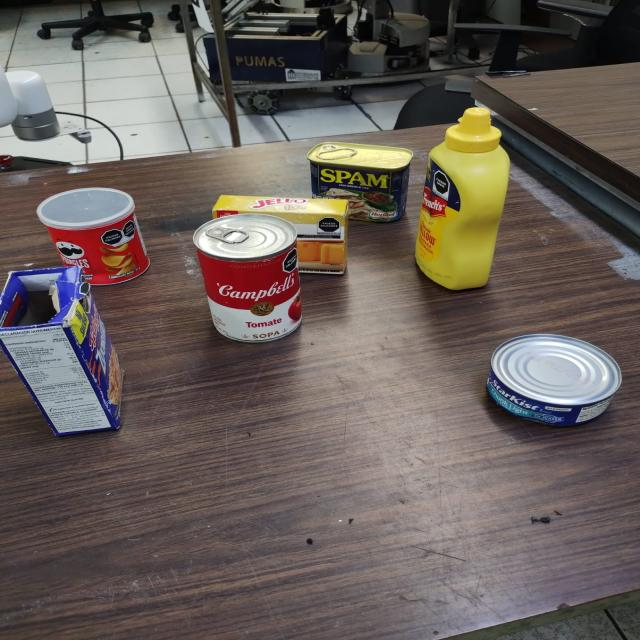can of cream: (192, 216, 302, 340)
can of tuna: (488, 336, 624, 426)
cereal: (0, 266, 121, 441)
chips: (36, 187, 148, 282)
jelly: (209, 195, 350, 274)
mustard: (415, 108, 519, 289)
spam: (306, 140, 416, 221)
